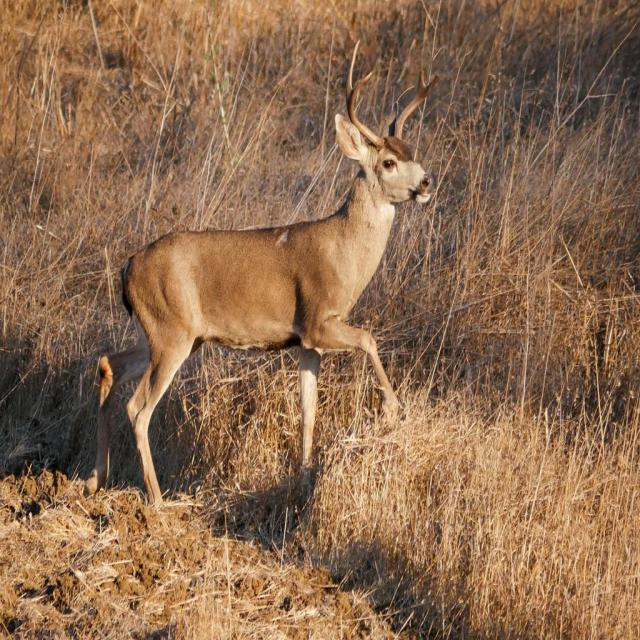Deer: (84, 37, 438, 513)
